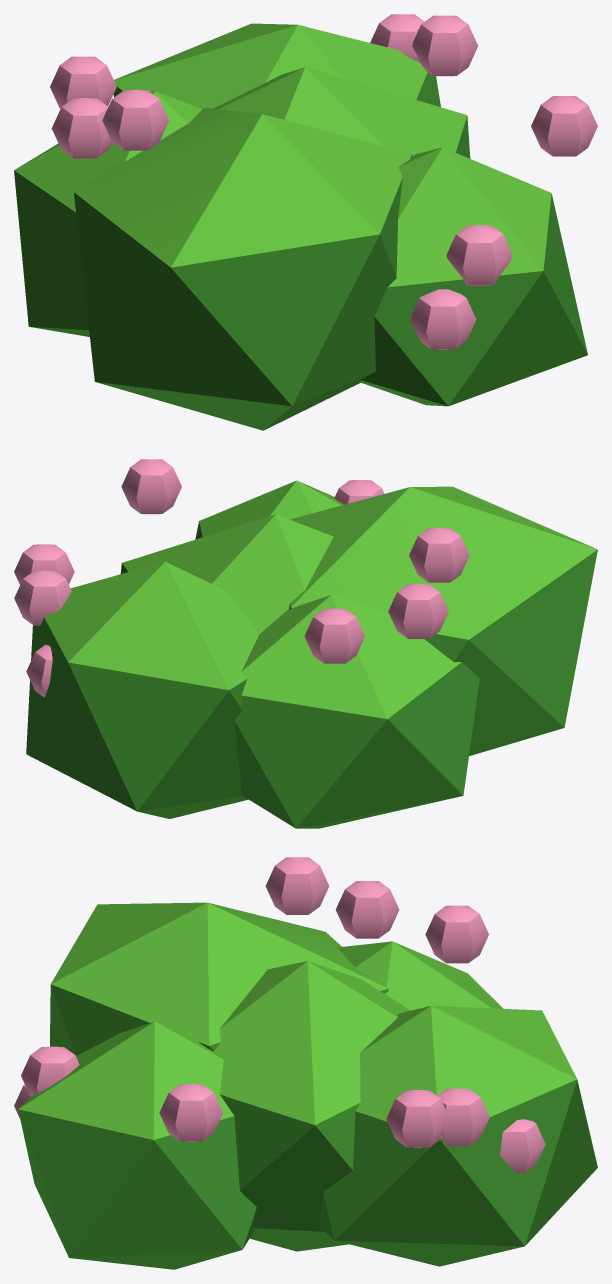
The model's file is FlowerBush.fbx.
The picture shows the model from 3 angles, top to bottom: view 1: azimuth 30°, elevation 25°; view 2: azimuth 150°, elevation 25°; view 3: azimuth 270°, elevation 25°; orthographic projection. The views are drawn at different scales.
Visible parts, largest first — view 1: FlowerBush; view 2: FlowerBush; view 3: FlowerBush.
Boxes of the visible parts, x1,y1,x2,y2 form: FlowerBush: (14,14,597,430); FlowerBush: (14,459,597,828); FlowerBush: (14,857,597,1269).
Bounding box in the file's own units: 3.36 × 2.15 × 3.66.
Materials: 1 (1 with a texture image).
